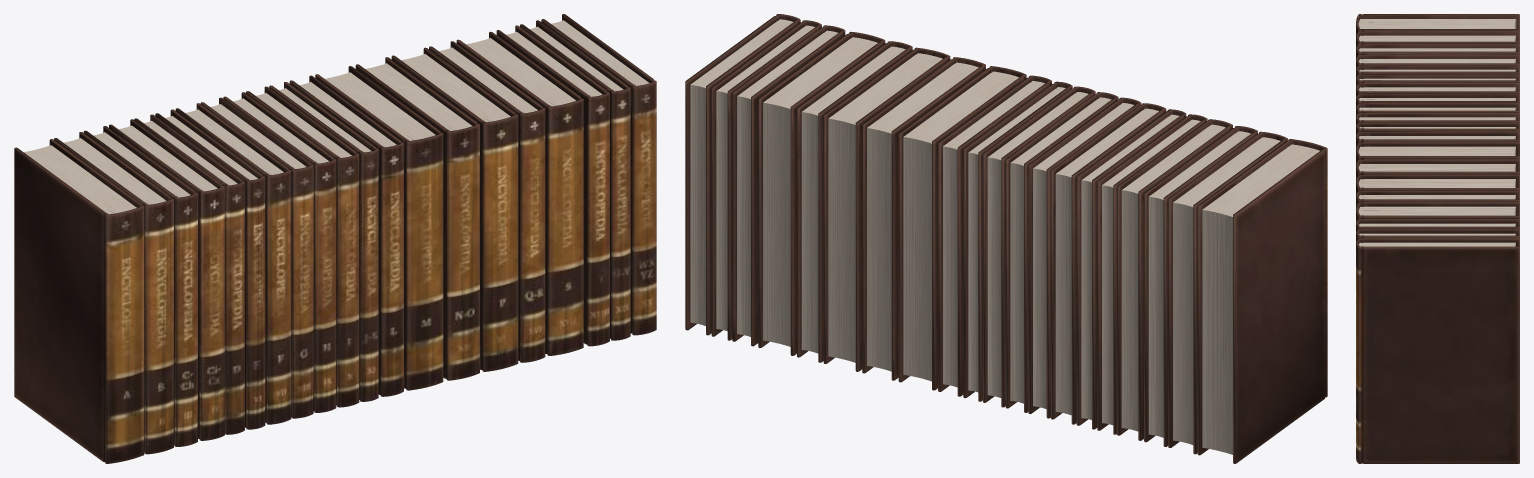
File: book_encyclopedia_set_01.glb
3 views of the same model, side by side, from view 1: azimuth 30°, elevation 25°; view 2: azimuth 150°, elevation 25°; view 3: azimuth 270°, elevation 25° (orthographic). The views are drawn at different scales.
Visible parts, largest first — view 1: book_encyclopedia_set_01_book01; view 2: book_encyclopedia_set_01_book01; view 3: book_encyclopedia_set_01_book01.
Boxes of the visible parts, <box> form: book_encyclopedia_set_01_book01: <box>14,14,656,463</box>; book_encyclopedia_set_01_book01: <box>685,14,1327,463</box>; book_encyclopedia_set_01_book01: <box>1356,14,1519,463</box>.
Size of the model in its own units: 0.5513 by 0.2374 by 0.1631.
2 materials, 2 textured.
